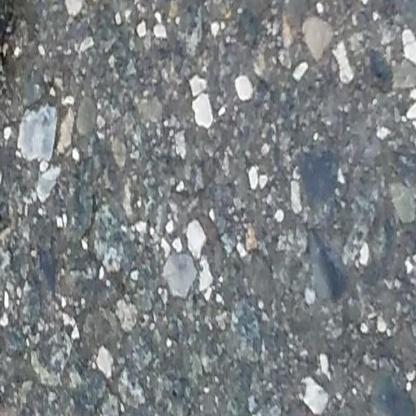Cracks: (0, 0, 27, 151)
